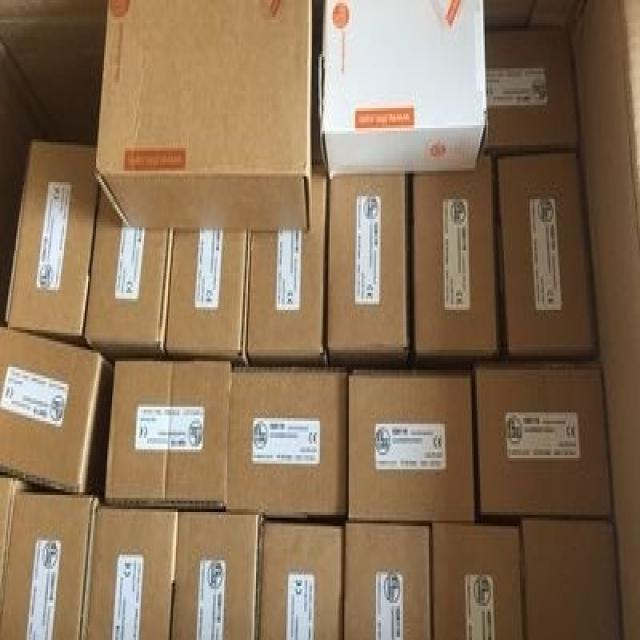box: (96, 0, 314, 233), (318, 0, 486, 176), (474, 358, 613, 526), (494, 154, 600, 361), (245, 117, 330, 370), (347, 364, 477, 523), (0, 327, 114, 503), (224, 367, 350, 523), (5, 142, 99, 350), (102, 361, 232, 509), (410, 154, 499, 370), (326, 174, 410, 373), (85, 188, 173, 364), (0, 484, 94, 640), (83, 503, 179, 640), (522, 515, 622, 640), (166, 230, 251, 370), (483, 28, 576, 154), (173, 509, 259, 640), (430, 521, 523, 640), (342, 523, 434, 640), (258, 523, 346, 640), (0, 475, 22, 623)
